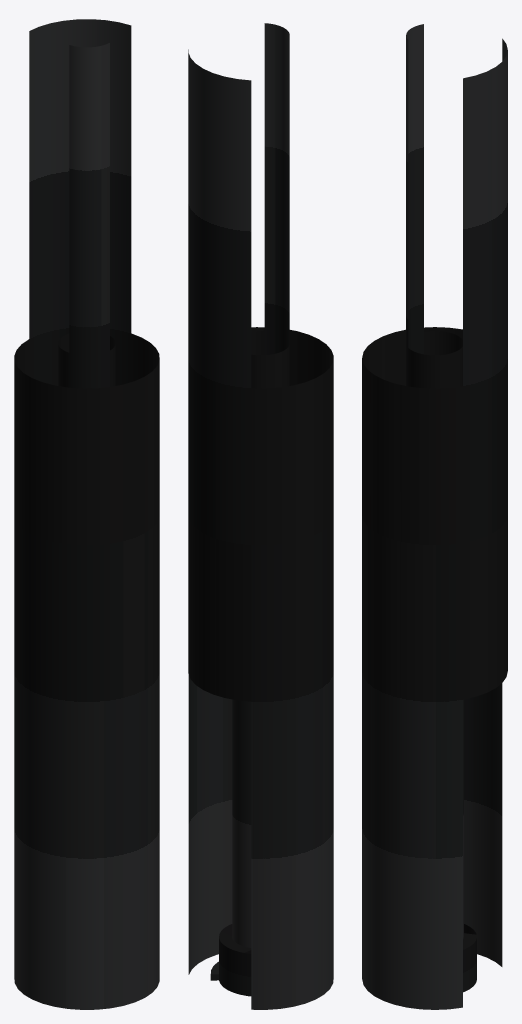
File: Suppressor_Pistol9.fbx
The picture shows the model from 3 angles, left to right: view 1: azimuth 30°, elevation 25°; view 2: azimuth 150°, elevation 25°; view 3: azimuth 270°, elevation 25°; orthographic projection.
Visible parts, largest first — view 1: asset_Suppressor_Pistol9.001; view 2: asset_Suppressor_Pistol9.001; view 3: asset_Suppressor_Pistol9.001.
Part boxes in pixels (x1,y1,x2,y2): asset_Suppressor_Pistol9.001: (14,19,159,1009); asset_Suppressor_Pistol9.001: (188,23,333,1009); asset_Suppressor_Pistol9.001: (362,24,507,1009).
Bounding box in the file's own units: 0.0143 × 0.102 × 0.0143.
